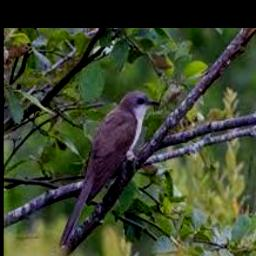Cuckoo: (59, 91, 159, 247)
